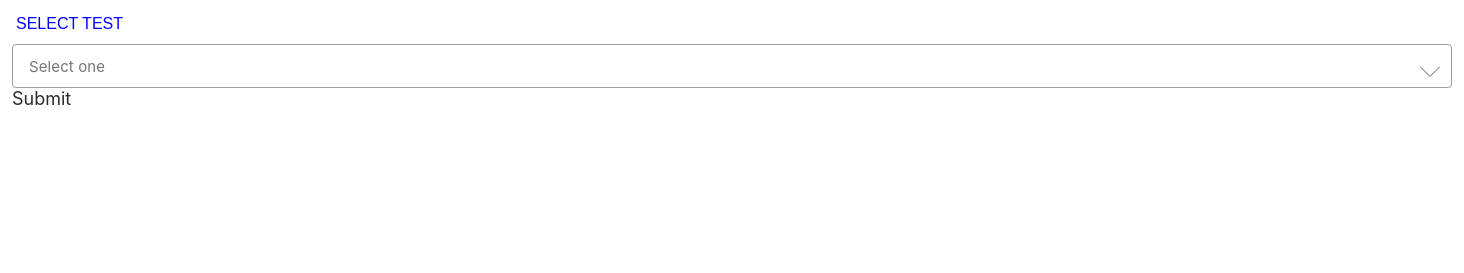
Test: Props are passed and rendered
Check: the text "Select Test" is shown, box [16,15,123,32]
Check: the field with placeholder "Select one" is shown, box [12,44,1452,88]
Step 1. Click the button named "toggle-menu" → (1430,71), box [1420,61,1440,81]
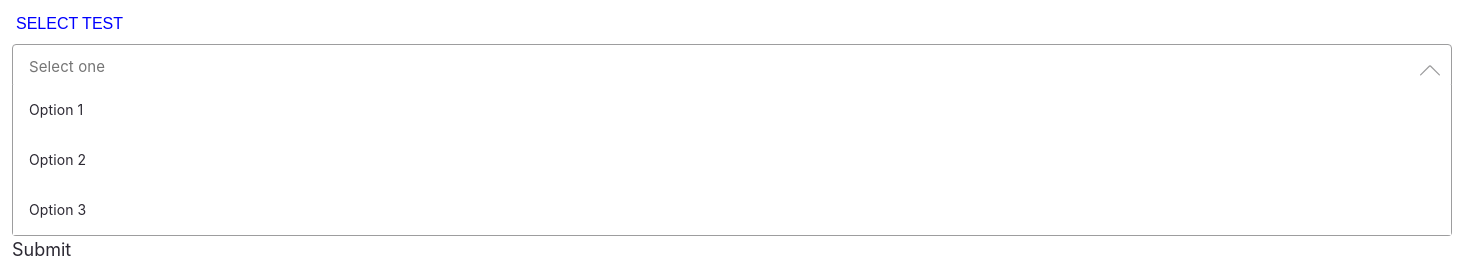
Check: the option "Option 2" is shown, box [13,135,1451,185]
